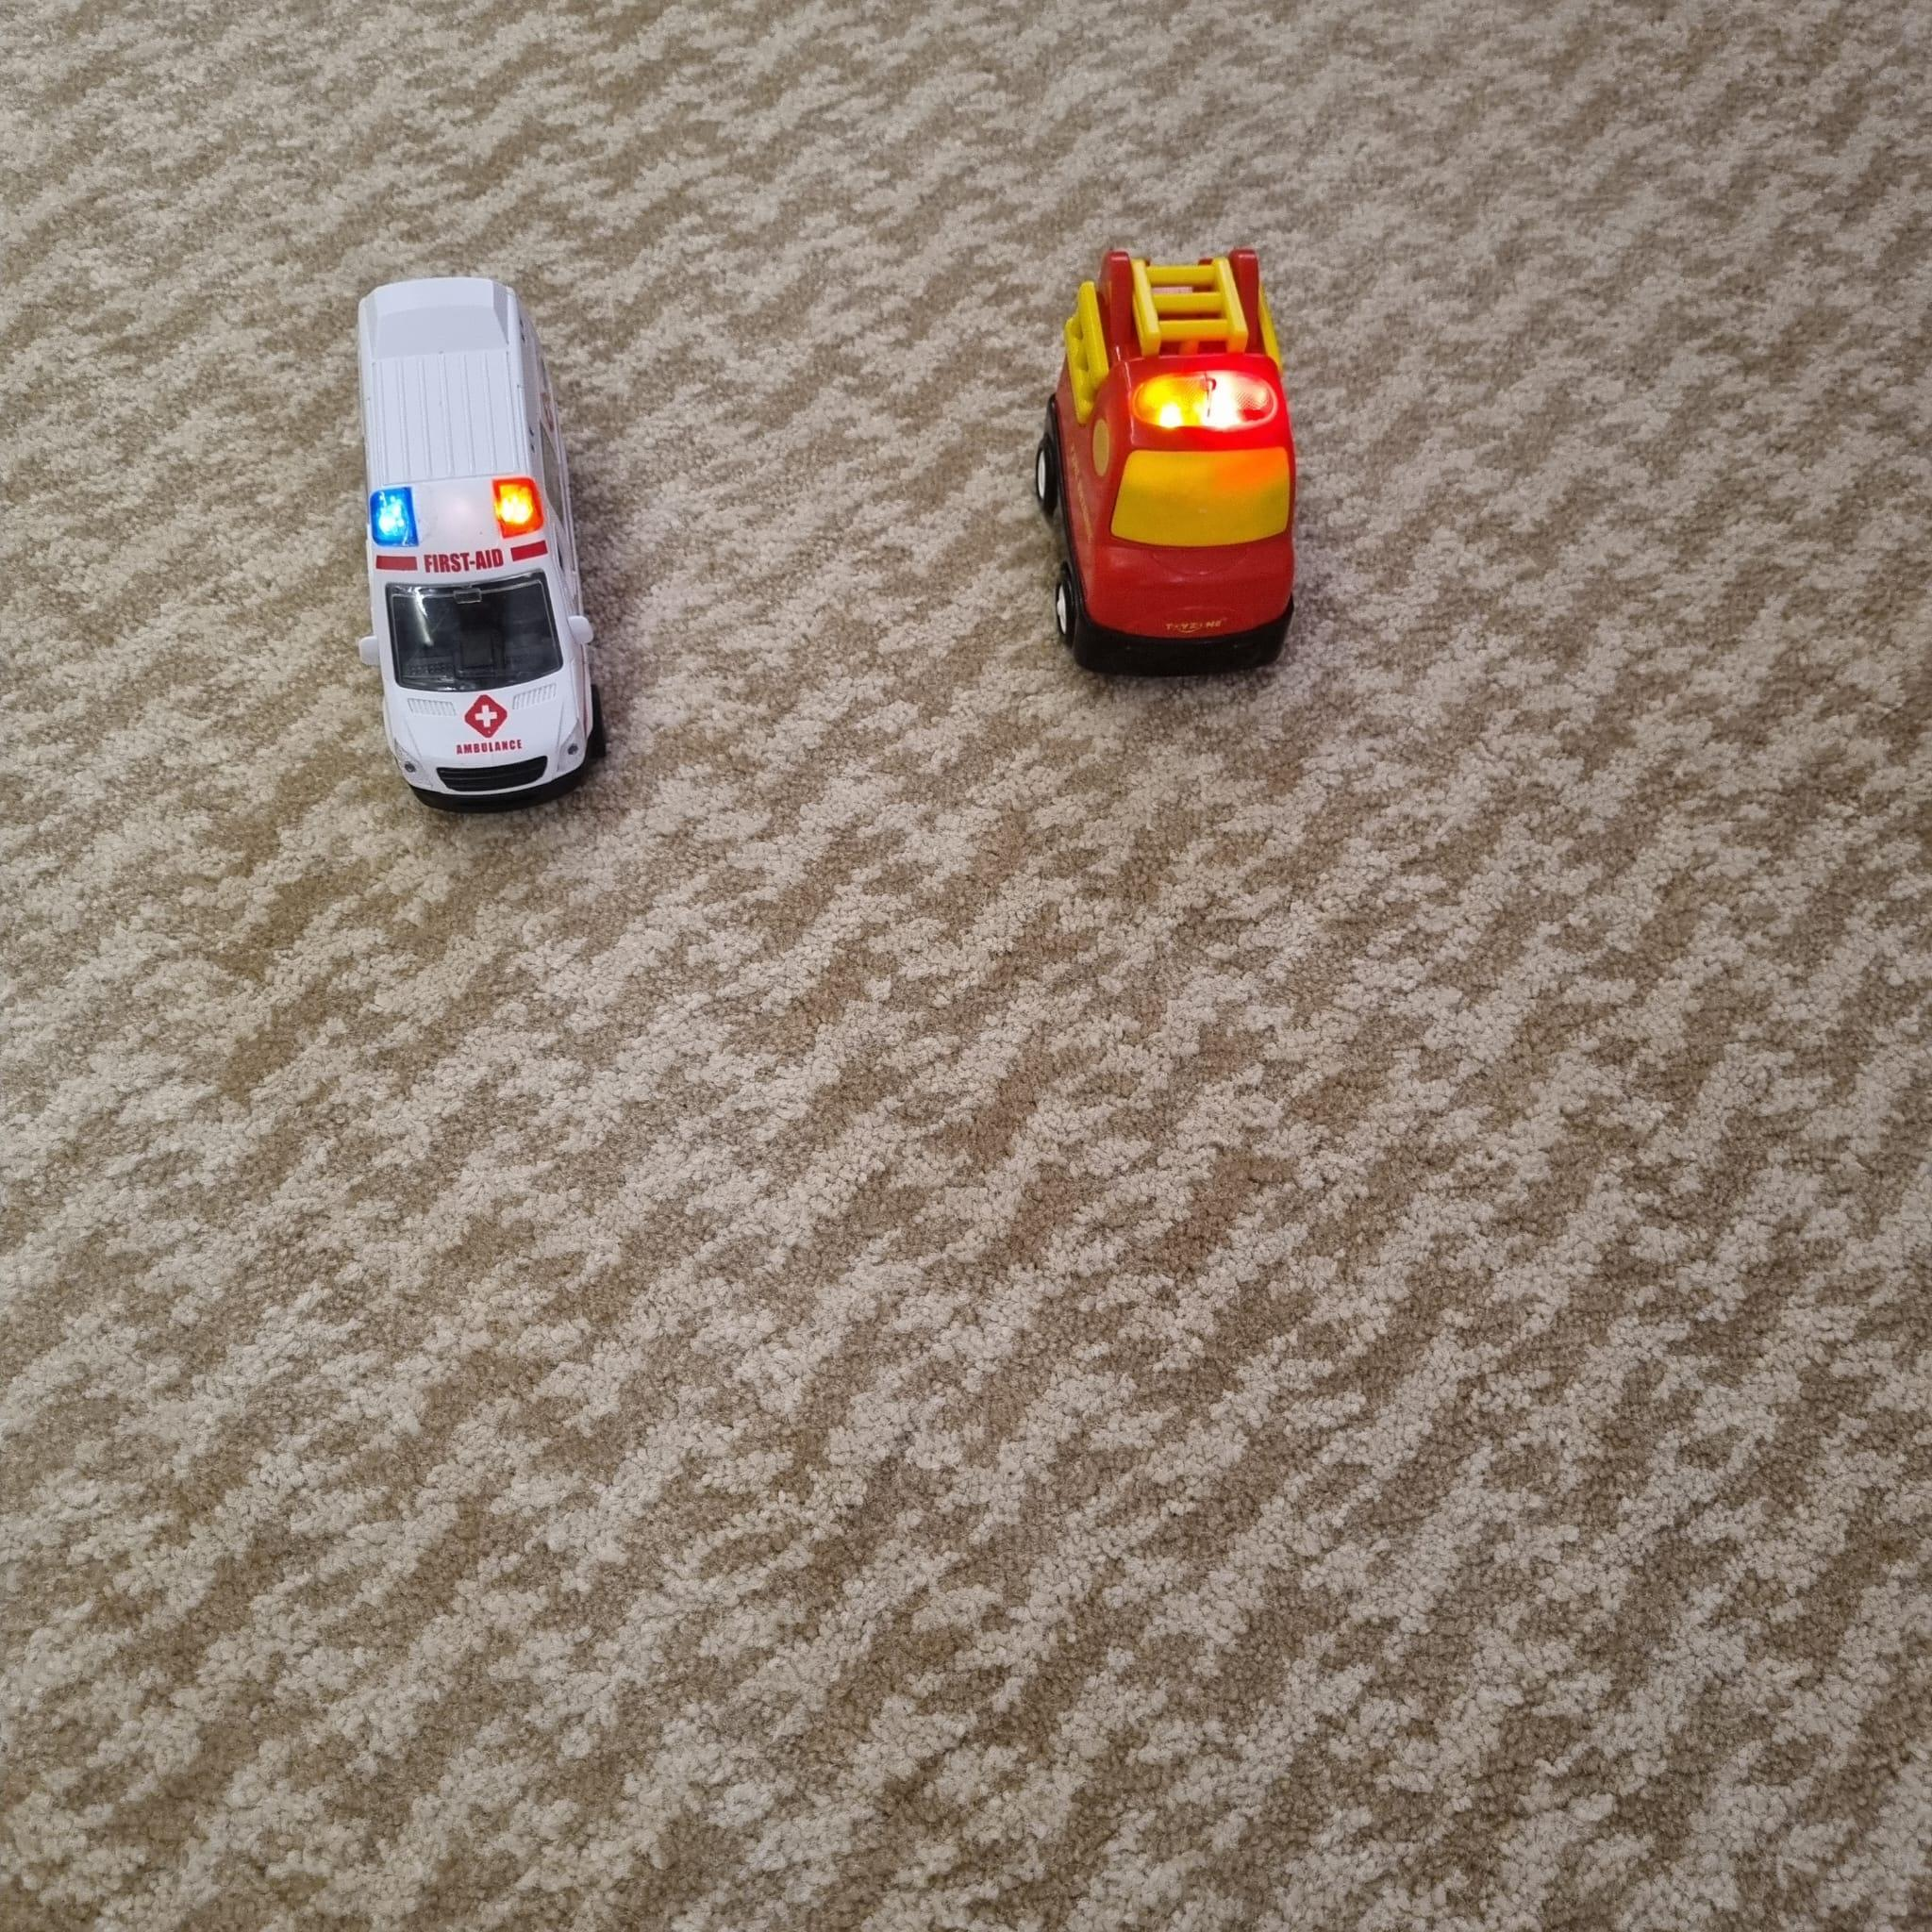ambulance_on: (350, 265, 610, 821)
firetruck_on: (1033, 246, 1302, 678)
